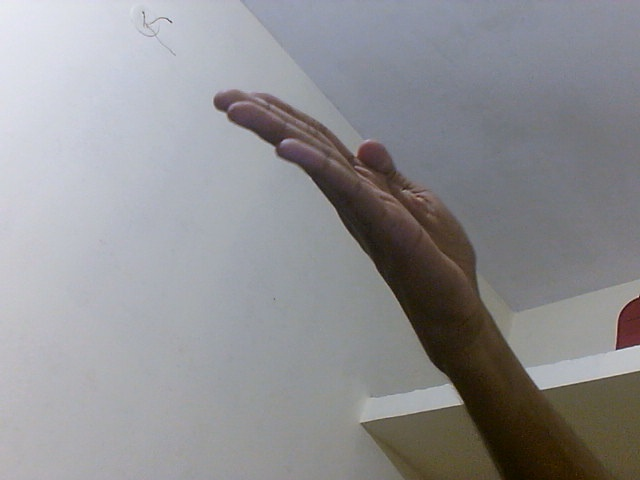hand: (205, 86, 480, 336)
